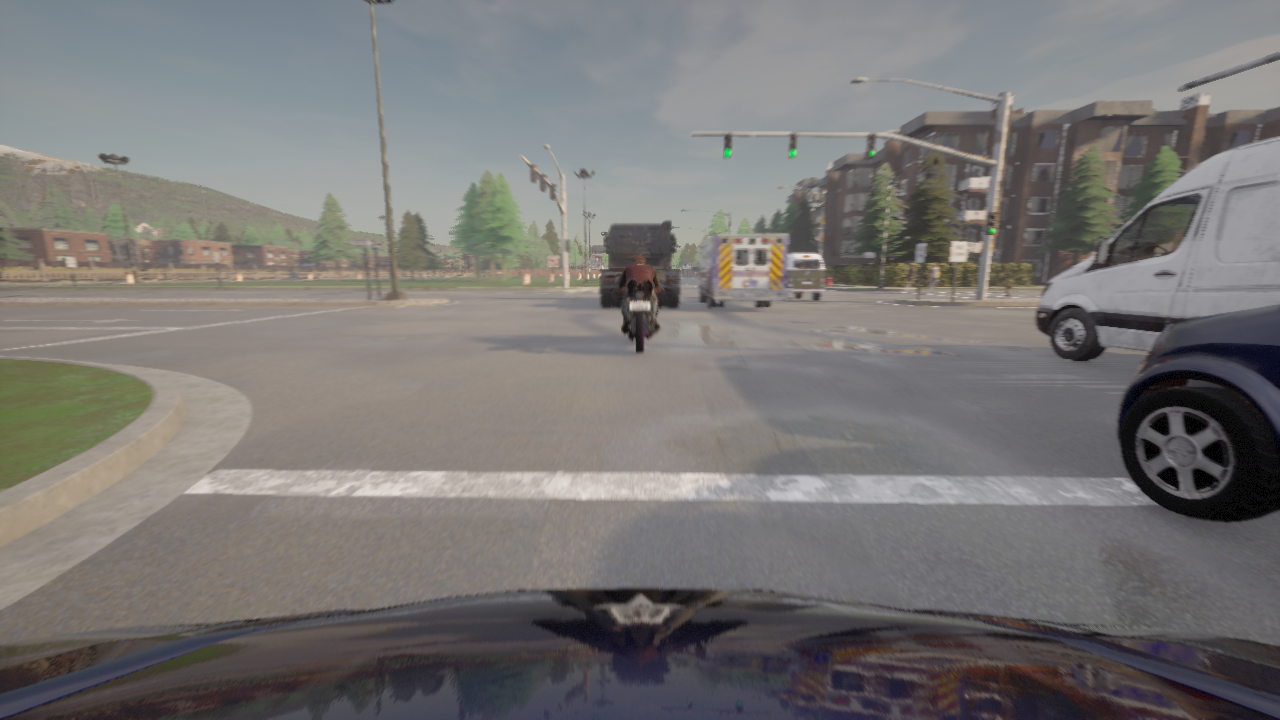cyclist: (0, 588, 1279, 719), (1035, 137, 1279, 360), (1117, 305, 1279, 521), (600, 221, 680, 307), (693, 234, 787, 307), (616, 274, 663, 353), (785, 253, 825, 300)
pedestrian: (929, 263, 940, 293), (906, 264, 915, 291), (1002, 276, 1013, 296)
